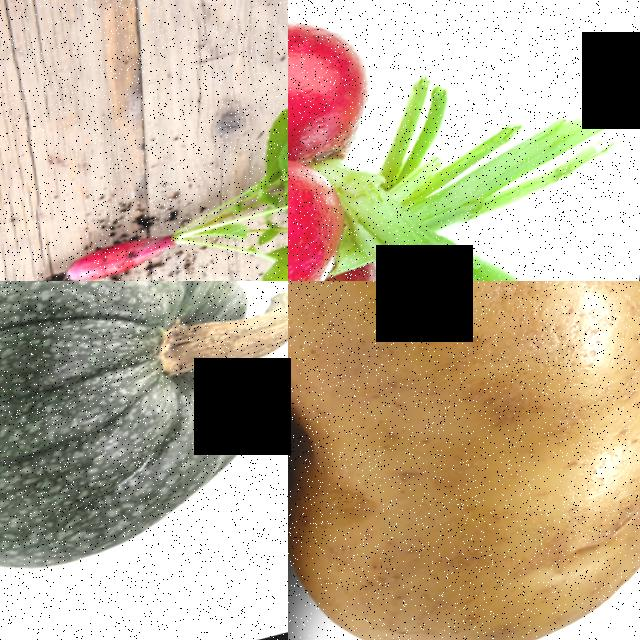potato: (288, 281, 640, 640)
pumpkin: (0, 281, 288, 611)
radishes: (288, 0, 473, 281), (59, 212, 255, 281)
